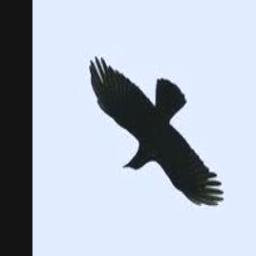Crow: (88, 56, 224, 206)
